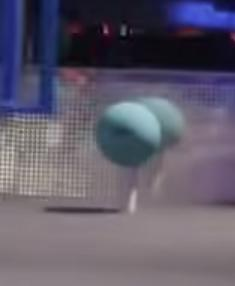algae: (95, 102, 160, 169)
coral: (118, 167, 139, 214)
